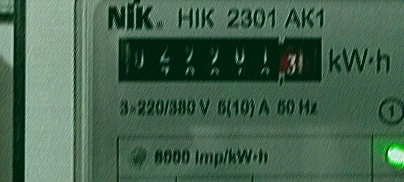0: (231, 40, 246, 65), (130, 46, 145, 68)
1: (258, 40, 270, 64)
2: (156, 41, 171, 63)
3: (283, 52, 298, 75)
9: (207, 42, 219, 65), (182, 41, 194, 62)
screen: (109, 29, 330, 91)
